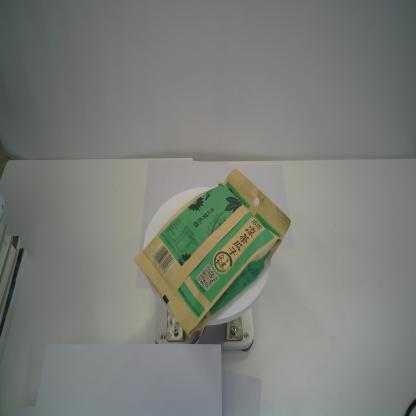Dried Food: (135, 166, 292, 338)
